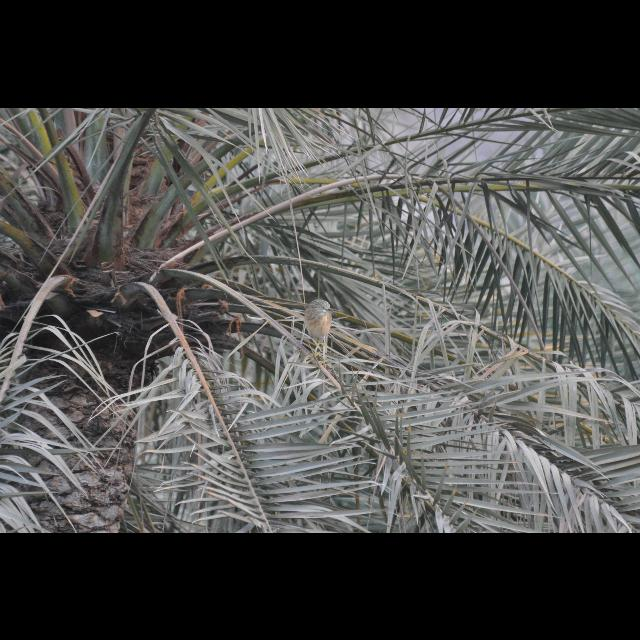heron: (302, 298, 338, 354)
